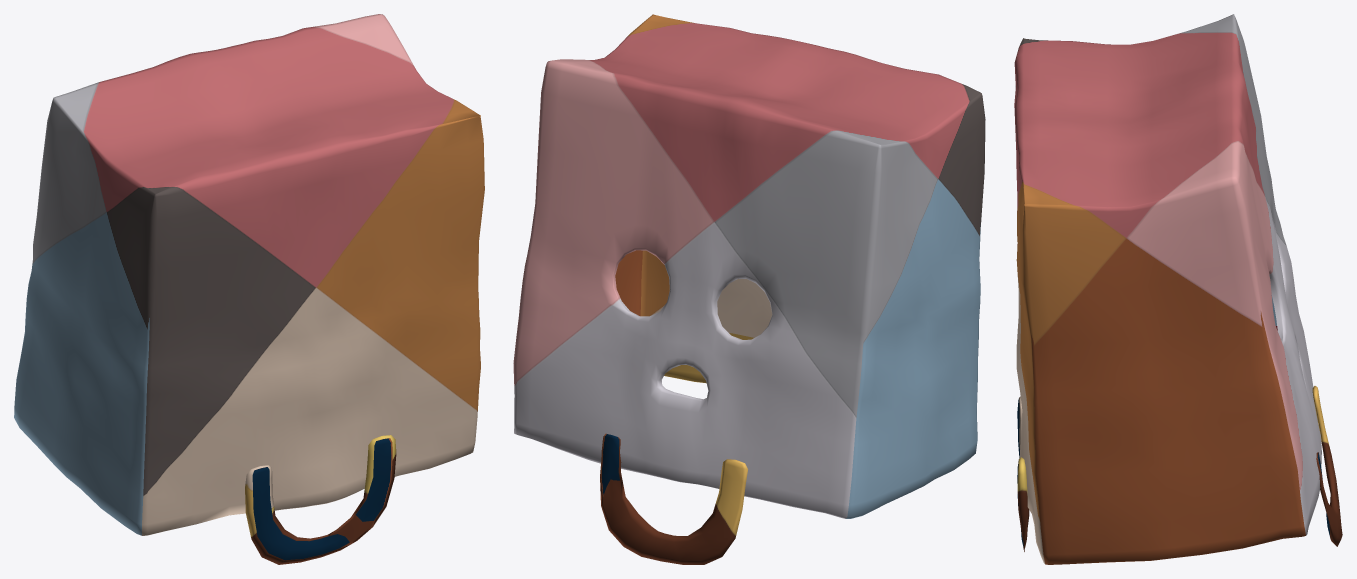
File: Hat_BagSad.fbx
The picture shows the model from 3 angles, left to right: view 1: azimuth 30°, elevation 25°; view 2: azimuth 150°, elevation 25°; view 3: azimuth 270°, elevation 25°; orthographic projection. The views are drawn at different scales.
Parts seen in each view (by area): view 1: Hat_BagSad; view 2: Hat_BagSad; view 3: Hat_BagSad.
Boxes of the visible parts, x1,y1,x2,y2 form: Hat_BagSad: (14, 14, 484, 564); Hat_BagSad: (513, 14, 985, 564); Hat_BagSad: (1014, 14, 1342, 564).
Bounding box in the file's own units: 91.25 × 105 × 69.18.
